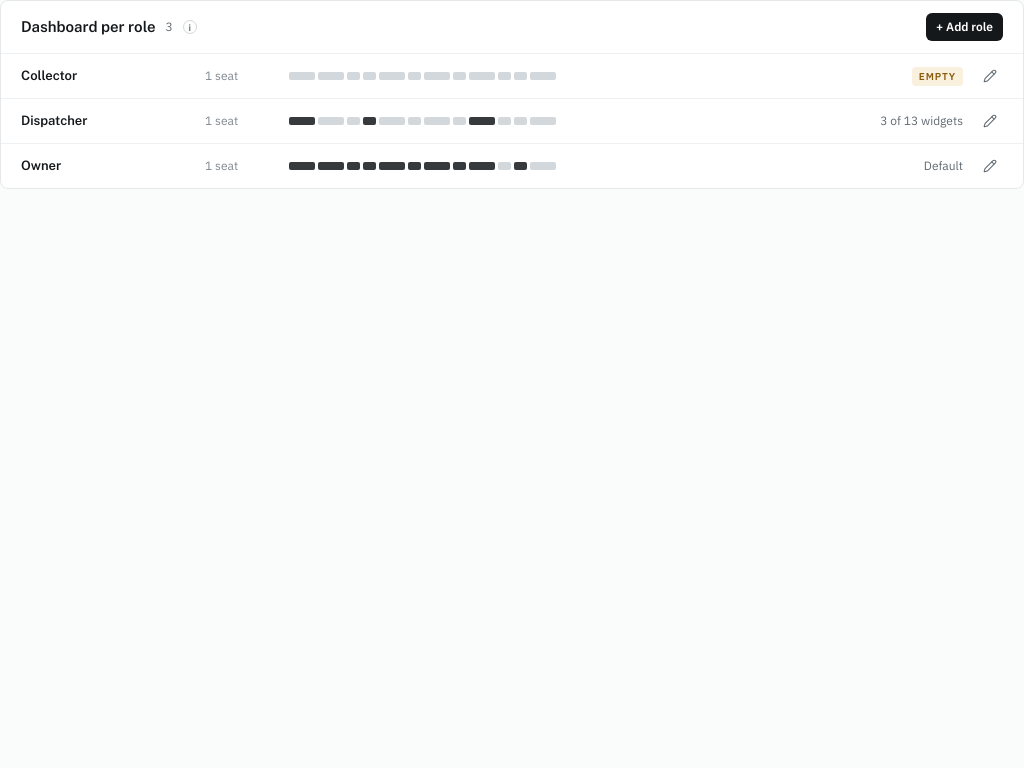
Dashboard per role › greys out widgets the role’s seats cannot see, naming the module
This screenshot has width=1024, height=768.
Click the button named "Configure Dispatcher".
click(990, 121)  # box [977, 108, 1003, 134]
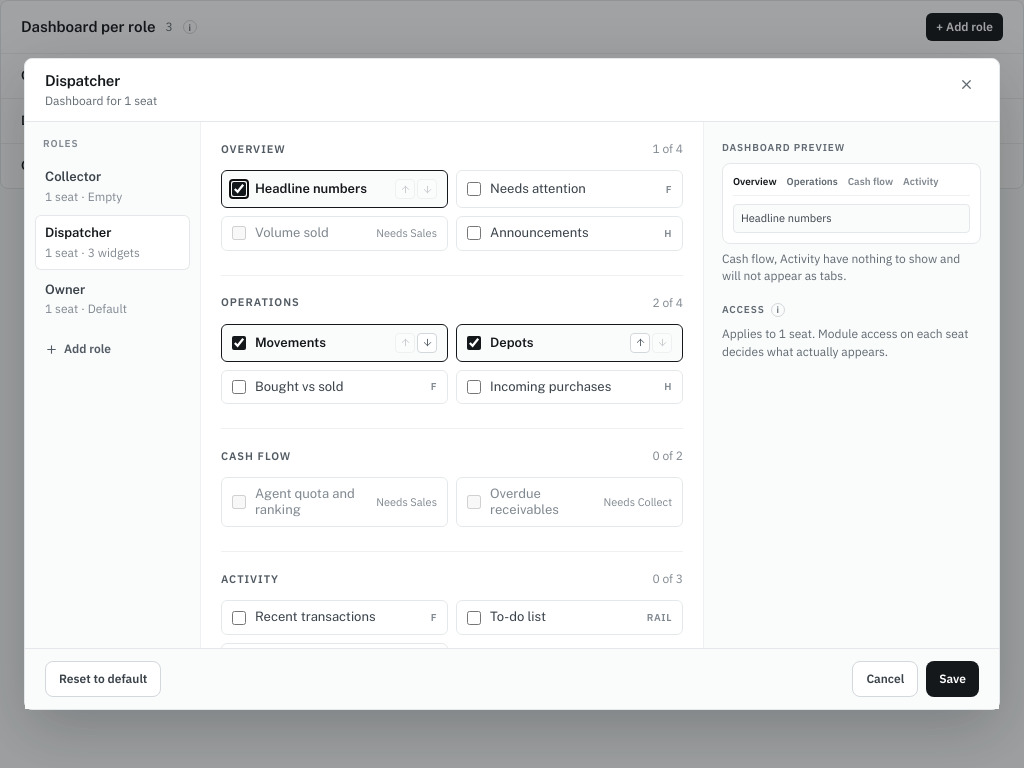
Expected: the checkbox labelled "Volume sold" is disabled, [232, 226, 246, 240]
Expected: the text "Needs Sales" next to "Volume sold" is shown, [376, 225, 437, 242]
Expected: the checkbox labelled "Movements" is enabled, [232, 336, 246, 350]
